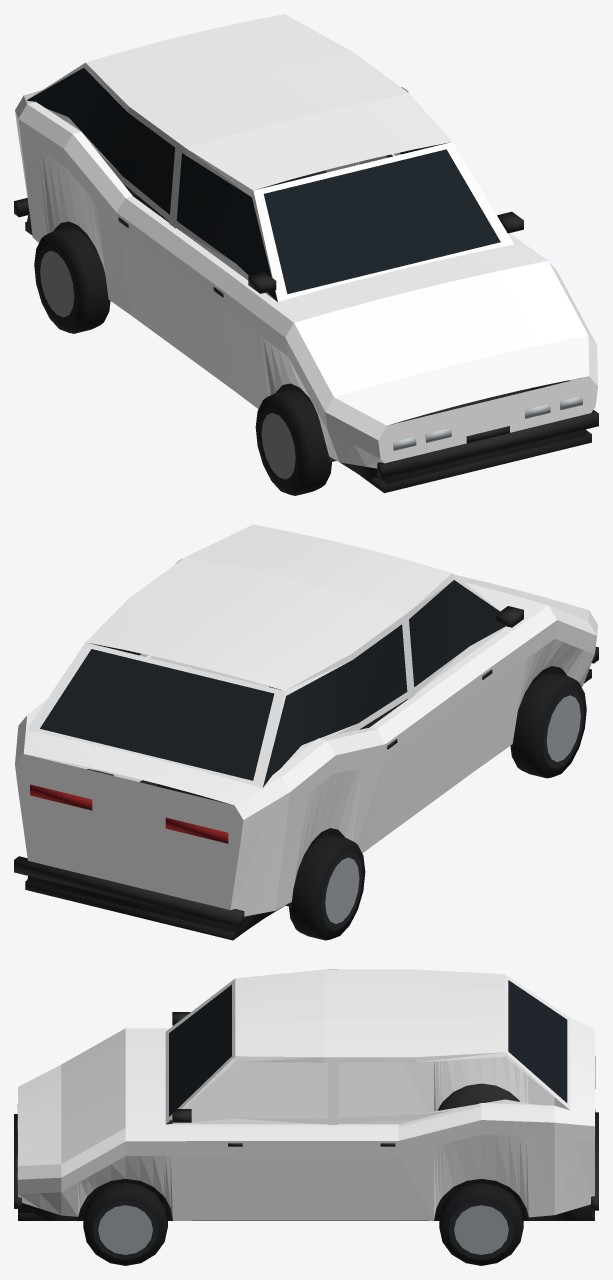
The model's file is vorhaus_bolota.glb.
3 views of the same model, one above another, from view 1: azimuth 30°, elevation 25°; view 2: azimuth 150°, elevation 25°; view 3: azimuth 270°, elevation 25° (orthographic). The views are drawn at different scales.
Visible parts, largest first — view 1: Body_Paint, Body_Details, Mount_RearLeft_Wheel_Details, Mount_FrontLeft_Wheel_Details; view 2: Body_Paint, Body_Details, Mount_FrontLeft_Wheel_Details, Mount_RearLeft_Wheel_Details; view 3: Body_Paint, Body_Details, Mount_FrontRight_Wheel_Details, Mount_RearRight_Wheel_Details.
Boxes of the visible parts, box(x1,y1,x2,y2) form: Body_Paint: box(15, 14, 597, 468); Body_Details: box(14, 68, 598, 493); Mount_RearLeft_Wheel_Details: box(34, 227, 110, 333); Mount_FrontLeft_Wheel_Details: box(255, 389, 331, 495); Body_Paint: box(15, 524, 597, 916); Body_Details: box(14, 580, 598, 940); Mount_FrontLeft_Wheel_Details: box(510, 672, 586, 778); Mount_RearLeft_Wheel_Details: box(289, 833, 365, 940); Body_Paint: box(18, 969, 594, 1220); Body_Details: box(14, 980, 598, 1221); Mount_FrontRight_Wheel_Details: box(83, 1183, 167, 1265); Mount_RearRight_Wheel_Details: box(439, 1183, 523, 1265).
Bounding box in the file's own units: 1.78 × 1.5 × 3.94.
Materials: 2 (1 with a texture image).
